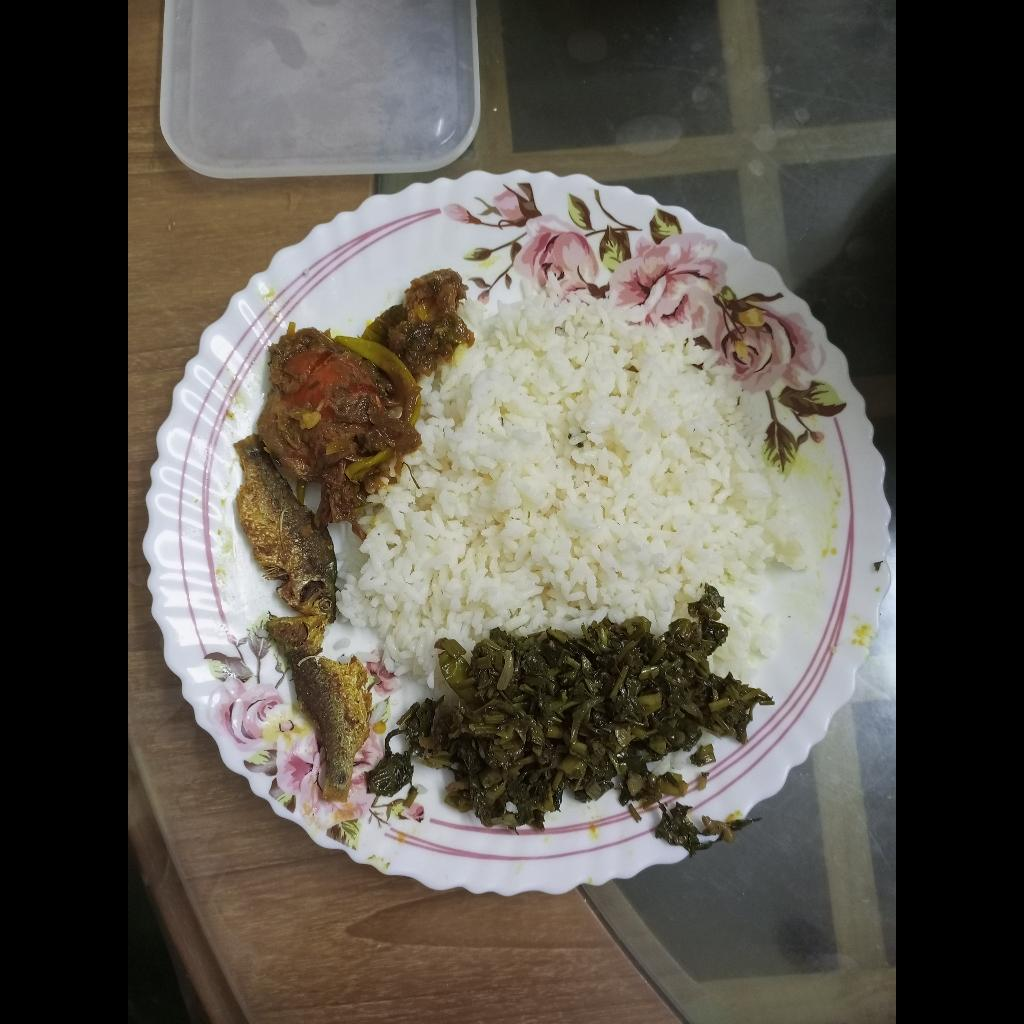fish: (261, 265, 472, 523), (233, 427, 342, 621), (271, 611, 371, 805)
rice: (333, 277, 823, 686)
shak: (367, 591, 771, 858)
